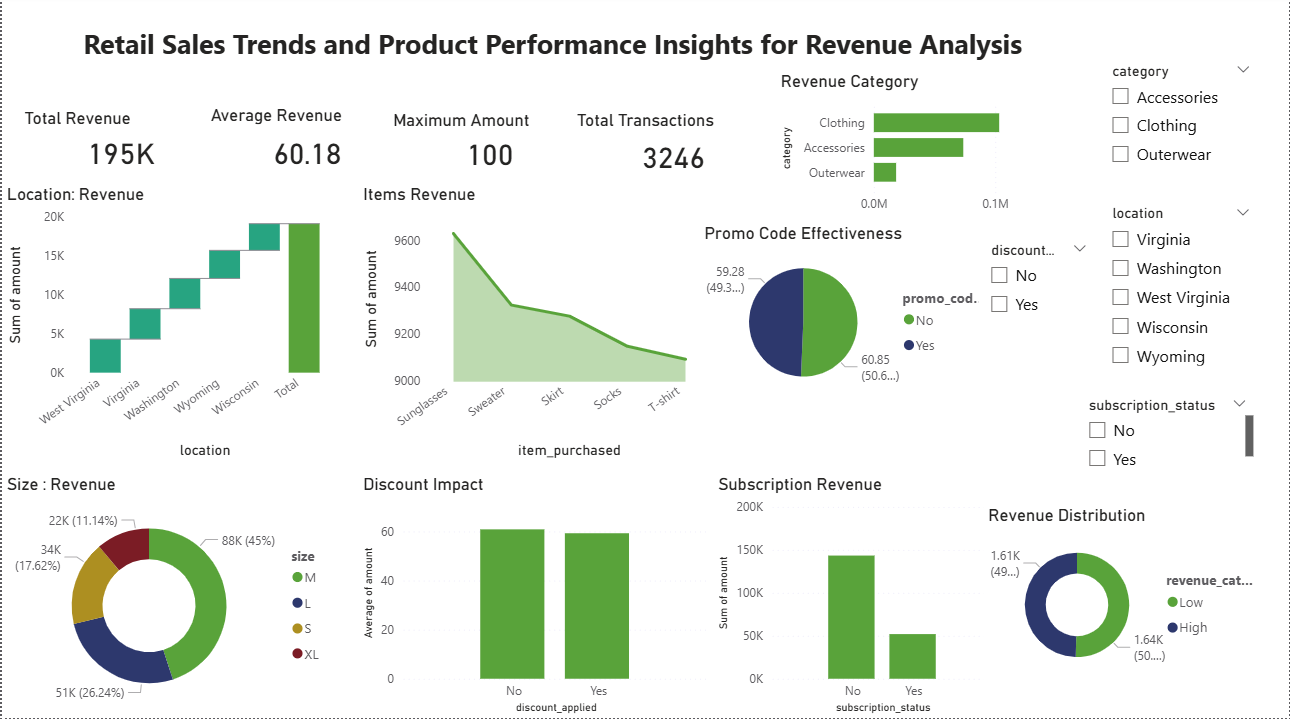

What the dashboard file says about the page in this screenshot:
{"tool":"powerbi","page":{"name":"Page 1","canvas":[1280,720],"ordinal":0},"visuals":[{"type":"textbox","box":[76.3,24.6,947.7,88.6],"z":0},{"type":"card","title":"Total Revenue","fields":{"Values":["Sum(Sheet1.amount)"]},"box":[17.5,112.5,202.5,70],"z":1000},{"type":"card","title":"Average Revenue","fields":{"Values":["Avg(Sheet1.amount)"]},"box":[202.5,110,202.5,75],"z":2000},{"type":"card","title":"Maximum Amount","fields":{"Values":["Max(Sheet1.amount)"]},"box":[385,115,202.5,67.5],"z":3000},{"type":"card","title":"Total  Transactions","fields":{"Values":["CountNonNull(Sheet1.item_purchased)"]},"box":[567.5,115,202.5,72.5],"z":4000},{"type":"clusteredBarChart","title":"Revenue Category","fields":{"Category":["Sheet1.category"],"Y":["Sum(Sheet1.amount)"]},"box":[770,76,298,150],"z":5000},{"type":"areaChart","title":"Items Revenue","fields":{"Category":["Sheet1.item_purchased"],"Y":["Sum(Sheet1.amount)"]},"box":[354,188,354,278],"z":6000},{"type":"waterfallChart","title":"Location: Revenue","fields":{"Category":["Sheet1.location"],"Y":["Sum(Sheet1.amount)"]},"box":[0,188,338,278],"z":7000},{"type":"donutChart","title":"Size : Revenue","fields":{"Category":["Sheet1.size"],"Y":["Sum(Sheet1.amount)"]},"box":[0,476,338,244],"z":8000},{"type":"clusteredColumnChart","title":"Discount Impact","fields":{"Category":["Sheet1.discount_applied"],"Y":["Avg(Sheet1.amount)"]},"box":[354,476,354,244],"z":9000},{"type":"pieChart","title":"Promo Code Effectiveness","fields":{"Category":["Sheet1.promo_code_used"],"Y":["Avg(Sheet1.amount)"]},"box":[694,226,298,180],"z":10000},{"type":"clusteredColumnChart","title":"Subscription Revenue","fields":{"Category":["Sheet1.subscription_status"],"Y":["Sum(Sheet1.amount)"]},"box":[708,476,284,244],"z":11000},{"type":"donutChart","title":"Revenue Distribution","fields":{"Category":["Sheet1.revenue_category"],"Y":["CountNonNull(Sheet1.item_purchased)"]},"box":[976,508,278,180],"z":12000},{"type":"slicer","fields":{"Values":["Sheet1.category"]},"box":[1092,62,162,120],"z":13000},{"type":"slicer","fields":{"Values":["Sheet1.location"]},"box":[1092,226,162,180],"z":14000},{"type":"slicer","fields":{"Values":["Sheet1.discount_applied"]},"box":[972,240,120,88],"z":15000},{"type":"slicer","fields":{"Values":["Sheet1.subscription_status"]},"box":[1068,394,182,82],"z":16000}]}

Visuals, with their boxes in screenshot pixels (x1, y1, x2, y2), scaled from the page's 1280x720 canvas onto the 1290x719 screenshot:
textbox: pyautogui.locateOnScreen(77, 25, 1032, 113)
"Total Revenue" card: pyautogui.locateOnScreen(18, 112, 222, 182)
"Average Revenue" card: pyautogui.locateOnScreen(204, 110, 408, 185)
"Maximum Amount" card: pyautogui.locateOnScreen(388, 115, 592, 182)
"Total  Transactions" card: pyautogui.locateOnScreen(572, 115, 776, 187)
"Revenue Category" clusteredBarChart: pyautogui.locateOnScreen(776, 76, 1076, 226)
"Items Revenue" areaChart: pyautogui.locateOnScreen(357, 188, 714, 465)
"Location: Revenue" waterfallChart: pyautogui.locateOnScreen(0, 188, 341, 465)
"Size : Revenue" donutChart: pyautogui.locateOnScreen(0, 475, 341, 718)
"Discount Impact" clusteredColumnChart: pyautogui.locateOnScreen(357, 475, 714, 718)
"Promo Code Effectiveness" pieChart: pyautogui.locateOnScreen(699, 226, 1000, 405)
"Subscription Revenue" clusteredColumnChart: pyautogui.locateOnScreen(714, 475, 1000, 718)
"Revenue Distribution" donutChart: pyautogui.locateOnScreen(984, 507, 1264, 687)
slicer - Sheet1.category: pyautogui.locateOnScreen(1101, 62, 1264, 182)
slicer - Sheet1.location: pyautogui.locateOnScreen(1101, 226, 1264, 405)
slicer - Sheet1.discount_applied: pyautogui.locateOnScreen(980, 240, 1101, 328)
slicer - Sheet1.subscription_status: pyautogui.locateOnScreen(1076, 393, 1260, 475)
